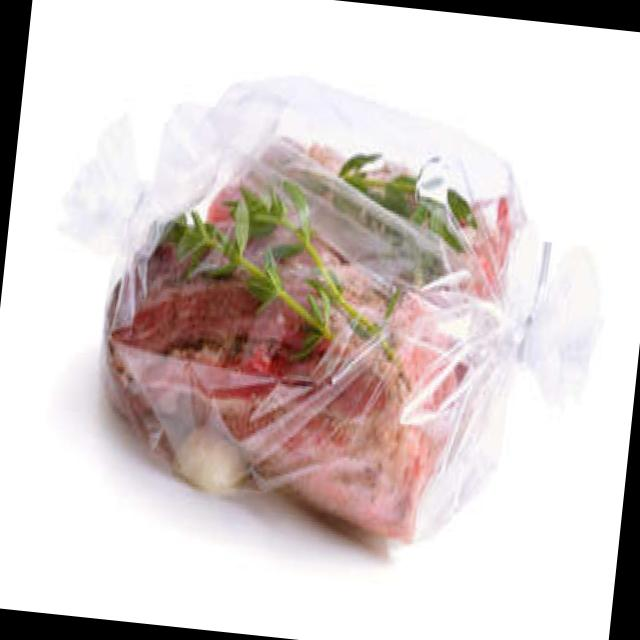pork: (81, 106, 556, 558)
